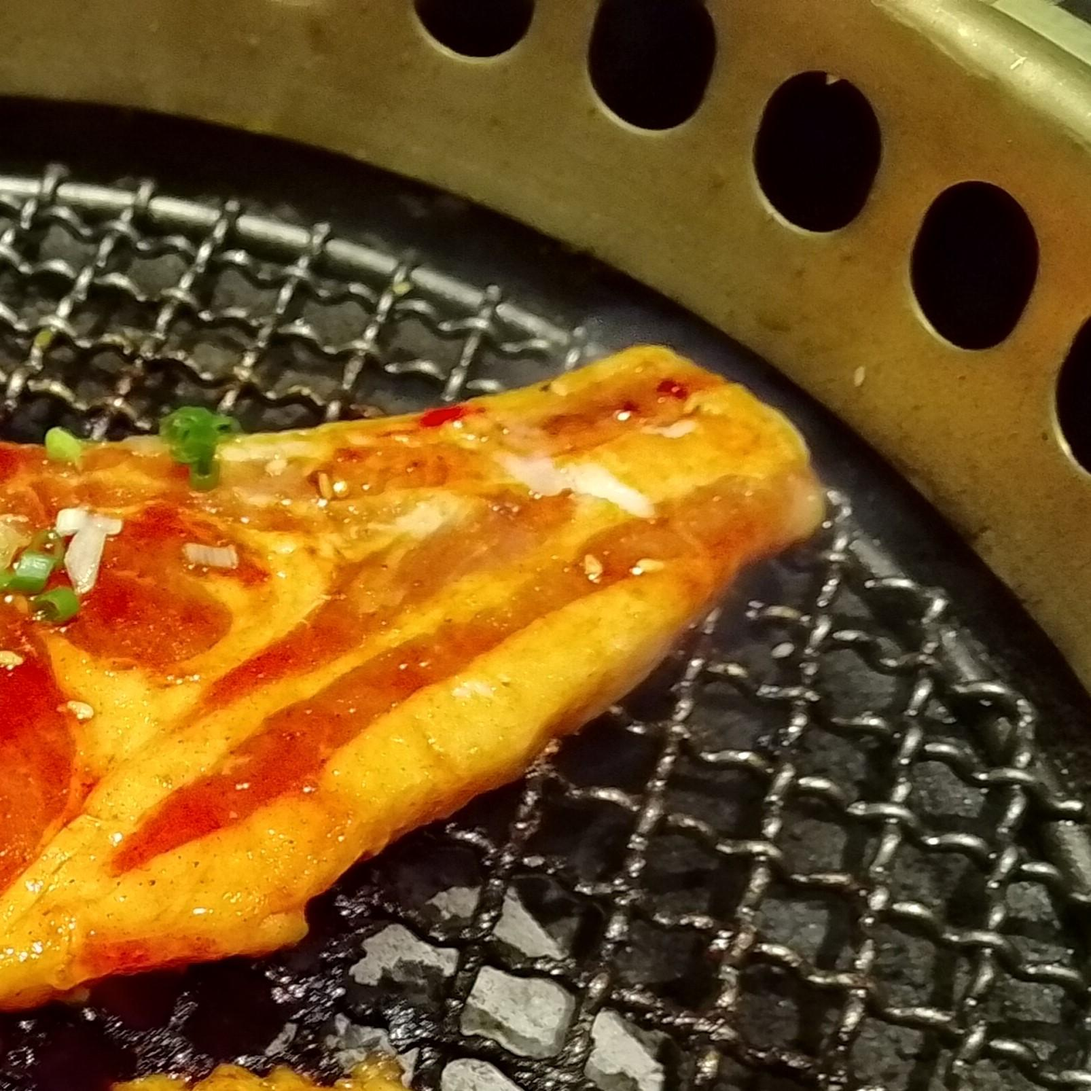Undercooked: (0, 346, 828, 1016)
